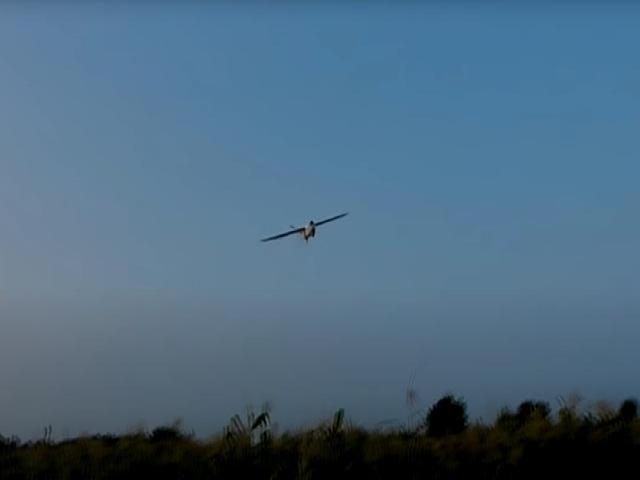iha: (261, 215, 347, 242)
